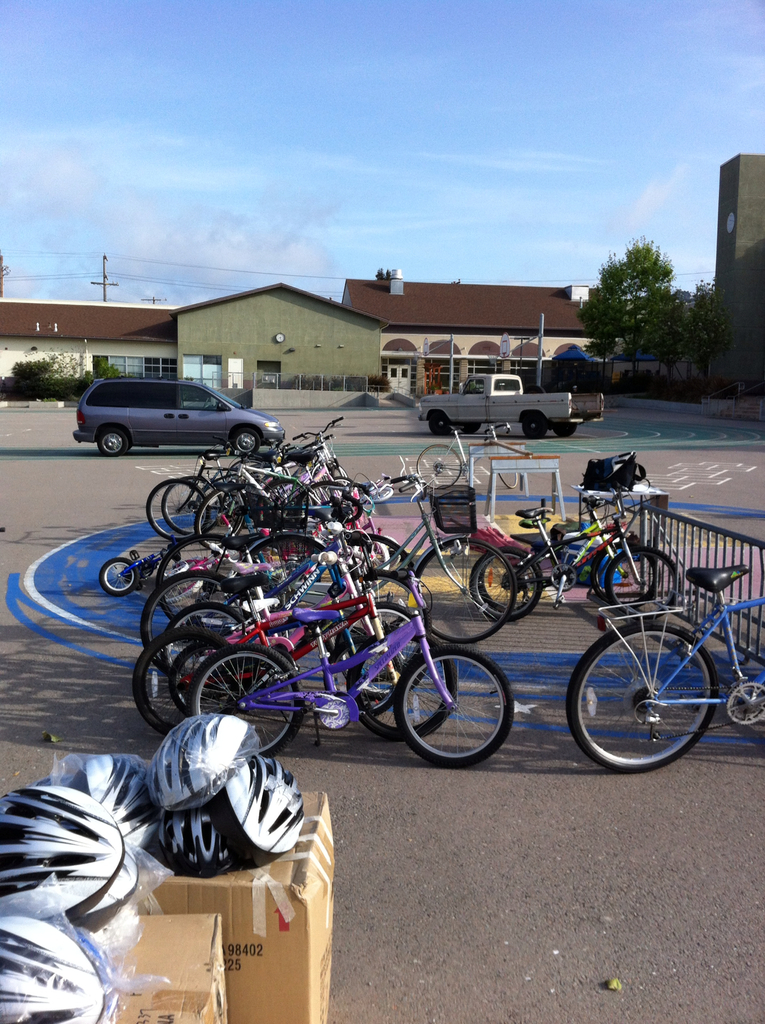Wheel: (95, 473, 681, 762), (569, 621, 721, 777), (382, 644, 505, 768), (414, 442, 466, 485), (226, 428, 263, 457), (520, 412, 548, 442), (99, 431, 130, 455), (427, 412, 450, 435), (550, 420, 574, 440)
